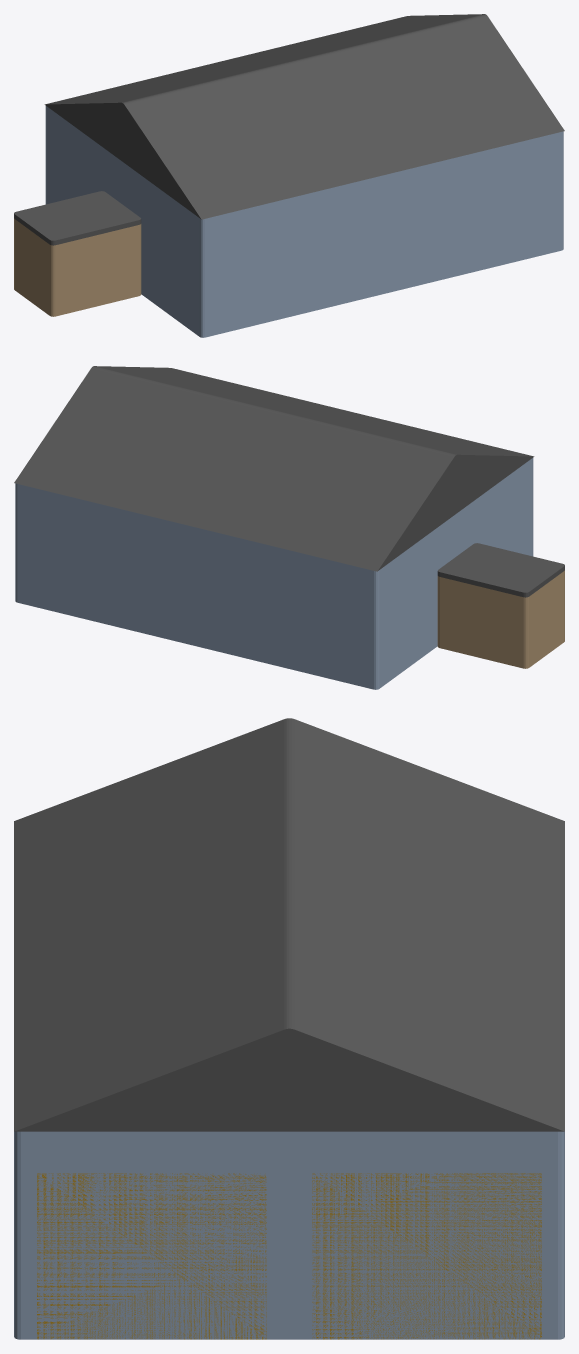
File: shed.obj
3 renders of one model, top to bottom at view 1: azimuth 30°, elevation 25°; view 2: azimuth 150°, elevation 25°; view 3: azimuth 270°, elevation 25°, orthographic. The views are drawn at different scales.
Size of the model in its own units: 20 by 7.47 by 12.
